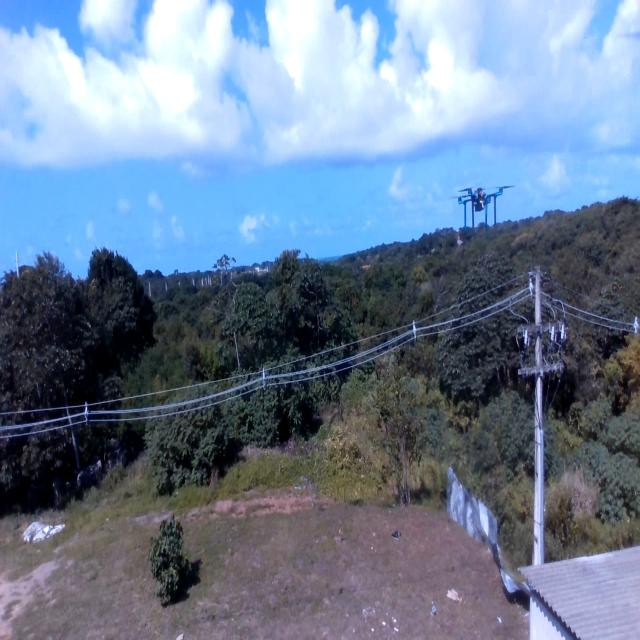-uav-: (443, 175, 522, 255)
